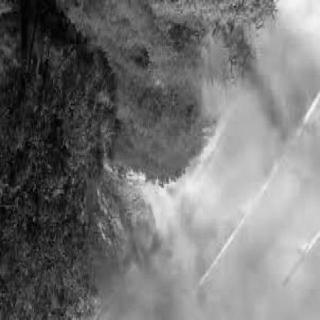Fire: (80, 192, 162, 270)
